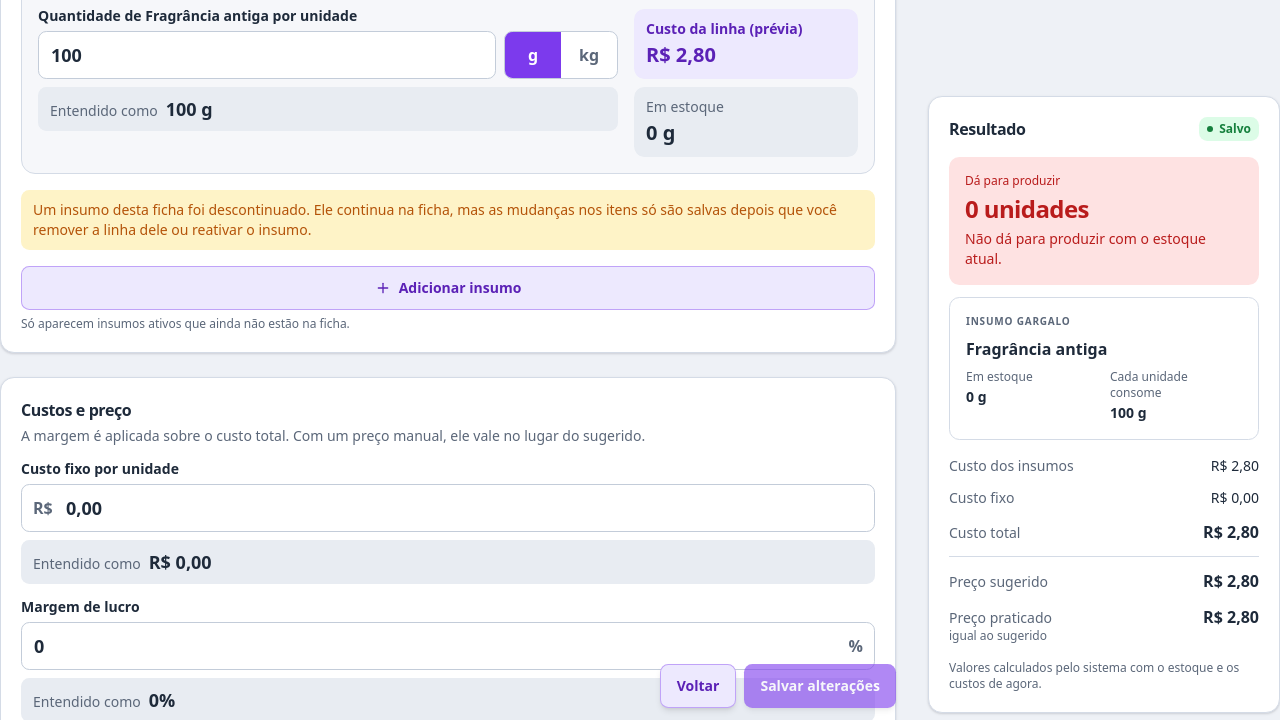
Test case: the bill of materials › keeps a line whose material was discontinued, sealed and intact, out of the picker
The width and height of the screenshot is (1280, 720).
(page scrolled)
expect the field labelled "Quantidade de Fragrância antiga por unidade" holds "100": met, box [38,31,496,79]
expect the text "Um insumo desta ficha foi descontinuado. Ele continua na ficha" is shown: met, box [33,200,837,239]
Click the button "Adicionar insumo": x=448, y=288 [21,266,875,310]
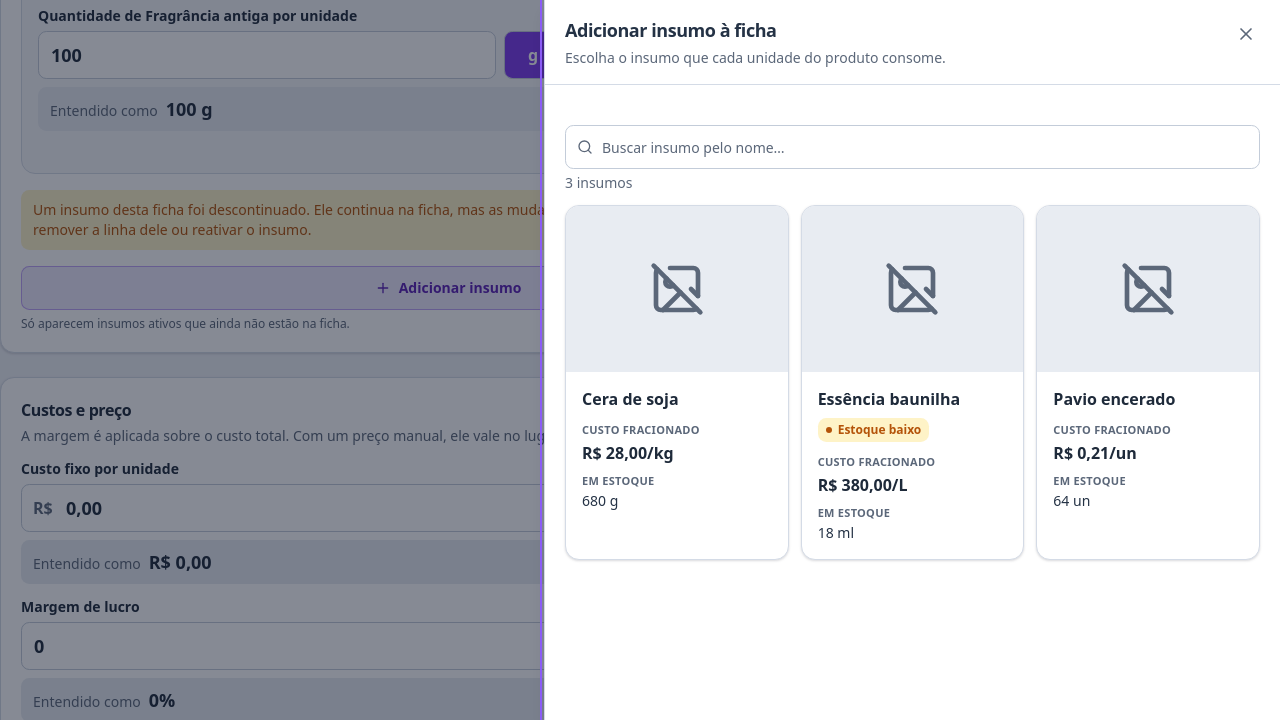
expect the button "Cera de soja" is shown: met, box [582,388,772,410]
